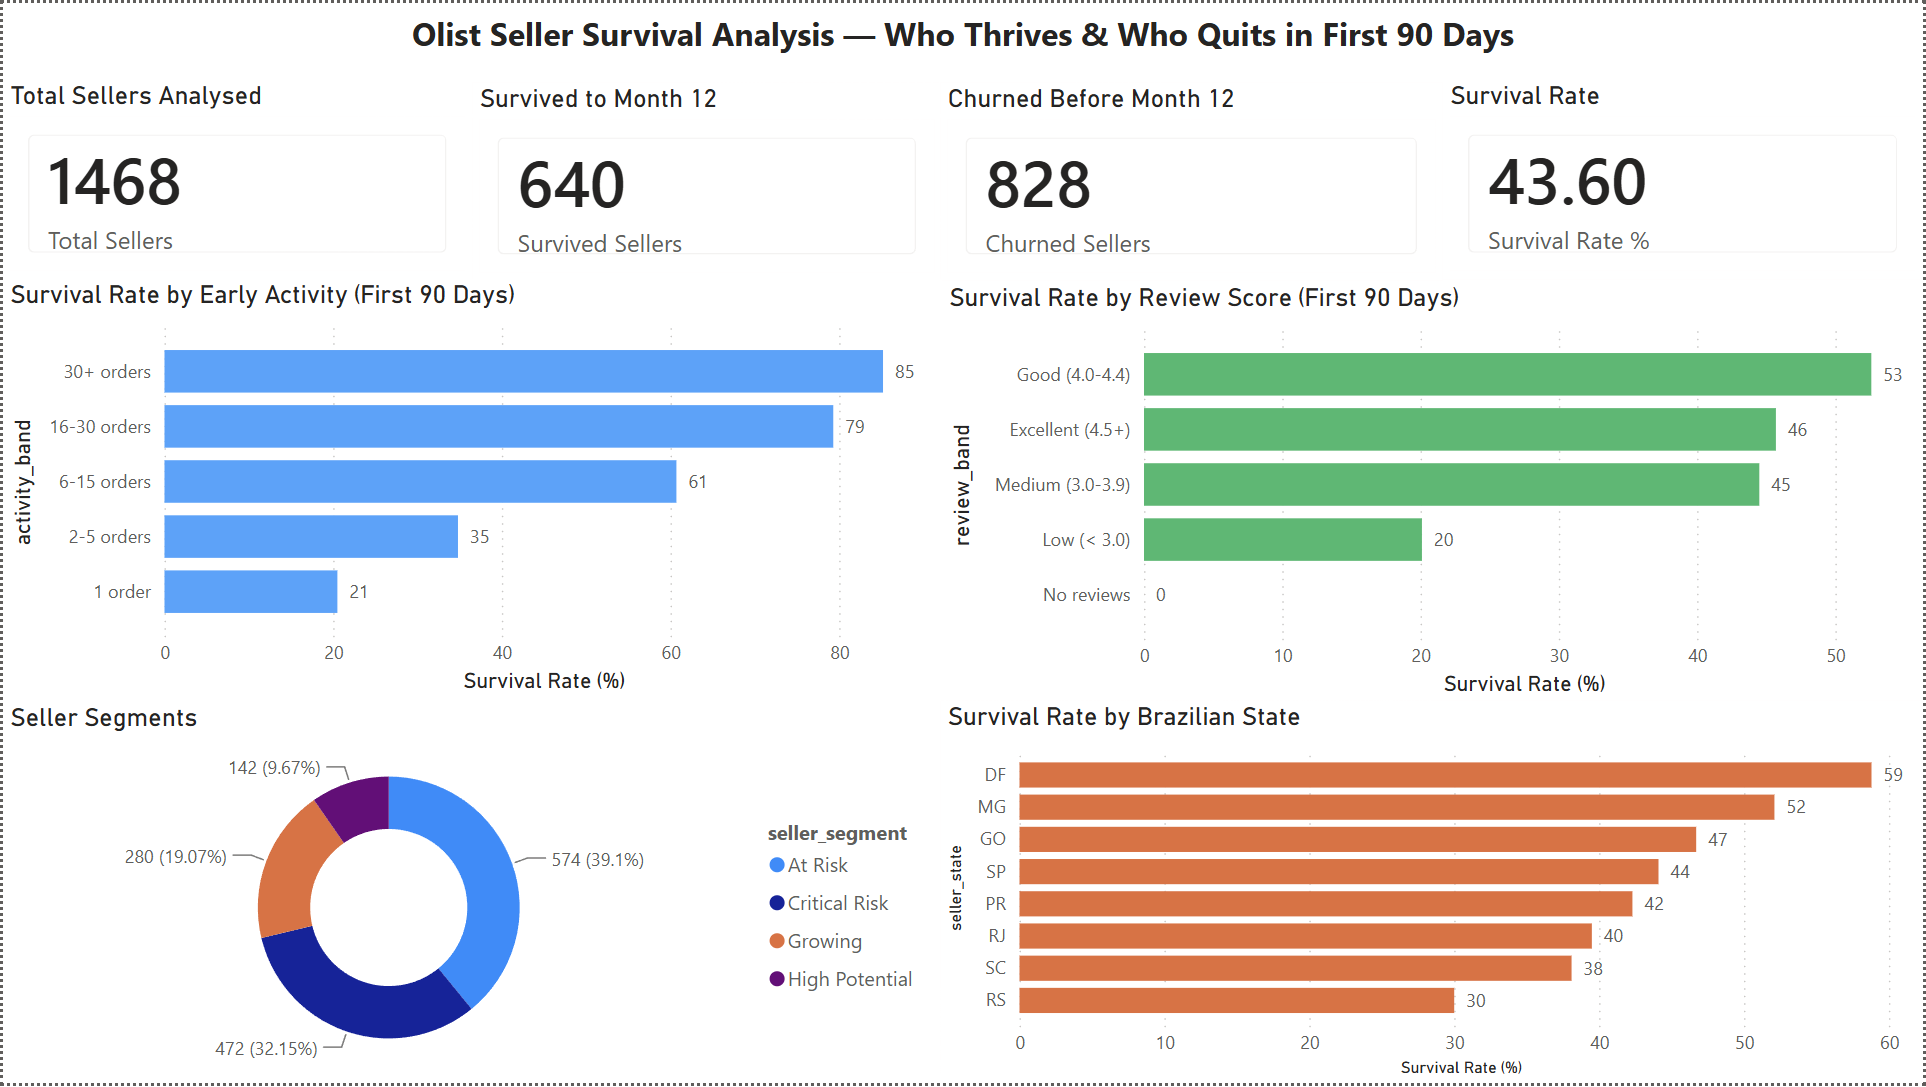

This screenshot's page, from the dashboard's own definition file:
{"tool":"powerbi","page":{"name":"Seller Survival Analysis","canvas":[1280,720],"ordinal":0},"visuals":[{"type":"cardVisual","title":"Total Sellers Analysed","fields":{"Data":["query5_seller_profiles.Total Sellers"]},"box":[0,51.4,312.9,132.9],"z":0},{"type":"cardVisual","title":"Survived to Month 12","fields":{"Data":["query5_seller_profiles.Survived Sellers"]},"box":[312.9,52.9,327.1,132.9],"z":1000},{"type":"cardVisual","title":"Churned Before Month 12","fields":{"Data":["query5_seller_profiles.Churned Sellers"]},"box":[640,52.9,312.9,132.9],"z":2000},{"type":"cardVisual","title":"Survival Rate","fields":{"Data":["query5_seller_profiles.Survival Rate %"]},"box":[960,51.4,320,132.9],"z":3000},{"type":"clusteredBarChart","title":"Survival Rate by Early Activity (First 90 Days)","fields":{"Category":["query2_survival_by_activity.activity_band"],"Y":["Sum(query2_survival_by_activity.survival_rate_pct)"]},"box":[0,184.3,625.7,280],"z":4000},{"type":"clusteredBarChart","title":"Survival Rate by Review Score (First 90 Days)","fields":{"Category":["query3_survival_by_review.review_band"],"Y":["Sum(query3_survival_by_review.survival_rate_pct)"]},"box":[625.7,195.7,654.3,280],"z":5000},{"type":"donutChart","title":"Seller Segments","fields":{"Category":["query5_seller_profiles.seller_segment"],"Y":["query5_seller_profiles.Total Sellers"]},"box":[0,475.7,625.7,244.3],"z":6000},{"type":"clusteredBarChart","title":"Survival Rate by Brazilian State","fields":{"Category":["query4_survival_by_state.seller_state"],"Y":["Sum(query4_survival_by_state.survival_rate_pct)"]},"box":[640,475.7,640,244.3],"z":7000},{"type":"textbox","box":[0,0,1280,51.2],"z":8000}]}

Visuals, with their boxes in screenshot pixels (x1, y1, x2, y2), scaled from the page's 1280x720 canvas onto the 1926x1087 screenshot:
"Total Sellers Analysed" cardVisual: (0, 78, 471, 278)
"Survived to Month 12" cardVisual: (471, 80, 963, 281)
"Churned Before Month 12" cardVisual: (963, 80, 1434, 281)
"Survival Rate" cardVisual: (1444, 78, 1925, 278)
"Survival Rate by Early Activity (First 90 Days)" clusteredBarChart: (0, 278, 941, 701)
"Survival Rate by Review Score (First 90 Days)" clusteredBarChart: (941, 295, 1925, 718)
"Seller Segments" donutChart: (0, 718, 941, 1086)
"Survival Rate by Brazilian State" clusteredBarChart: (963, 718, 1925, 1086)
textbox: (0, 0, 1925, 77)
